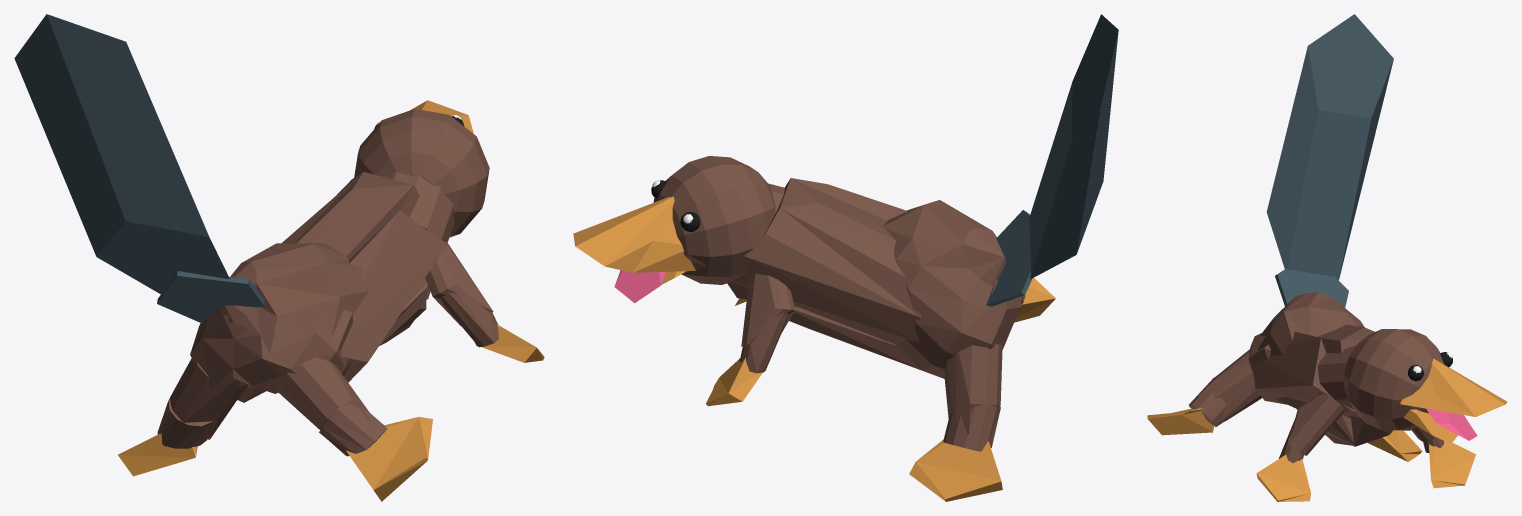
Rendered from platypus.obj.
The picture shows the model from 3 angles, left to right: view 1: azimuth 30°, elevation 25°; view 2: azimuth 150°, elevation 25°; view 3: azimuth 270°, elevation 25°; orthographic projection. The views are drawn at different scales.
Parts seen in each view (by area): view 1: group2094638264; view 2: group2094638264; view 3: group2094638264.
Boxes of the visible parts, box(x1,y1,x2,y2) form: group2094638264: box(14, 14, 544, 501); group2094638264: box(573, 14, 1118, 501); group2094638264: box(1147, 14, 1507, 501).
Size of the model in its own units: 0.1847 by 0.1756 by 0.148.
